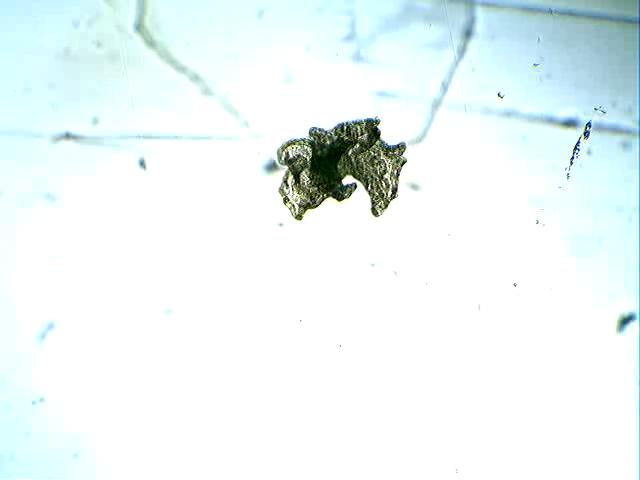Placozoan: (277, 117, 408, 221)
